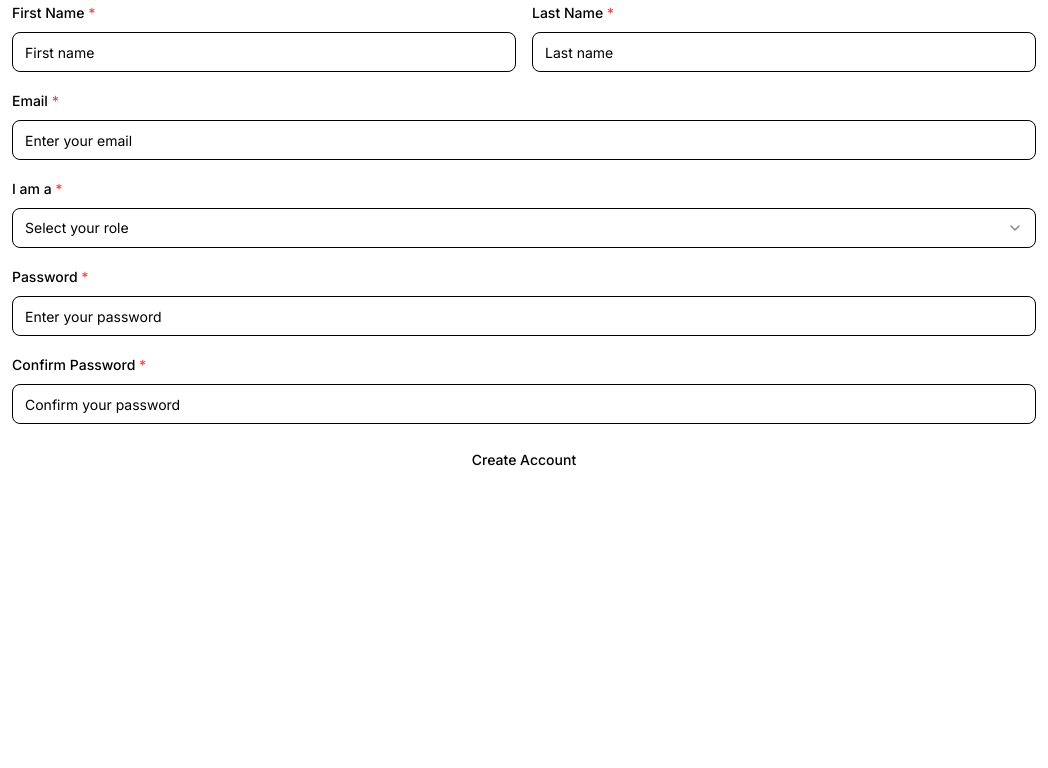
RegisterForm › validates required first name field
Click the button "Create Account" at (524, 460), box [12,440,1036,480]
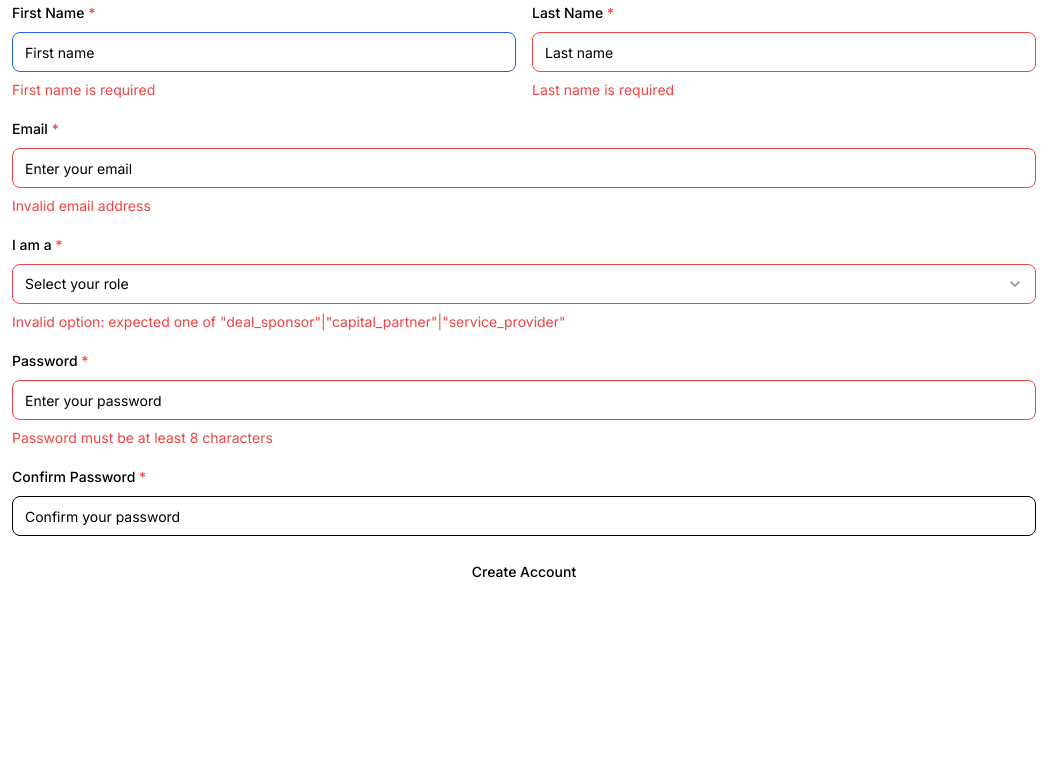
Expected: the text "First name is required" is shown, [12,81,155,98]
